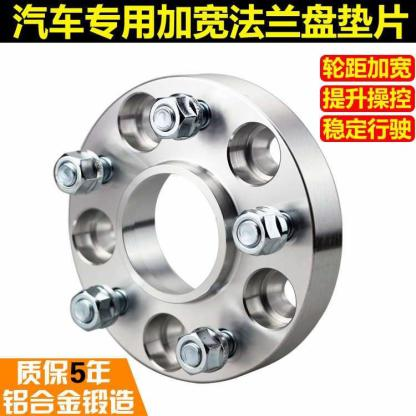FOD: (58, 68, 351, 384)
